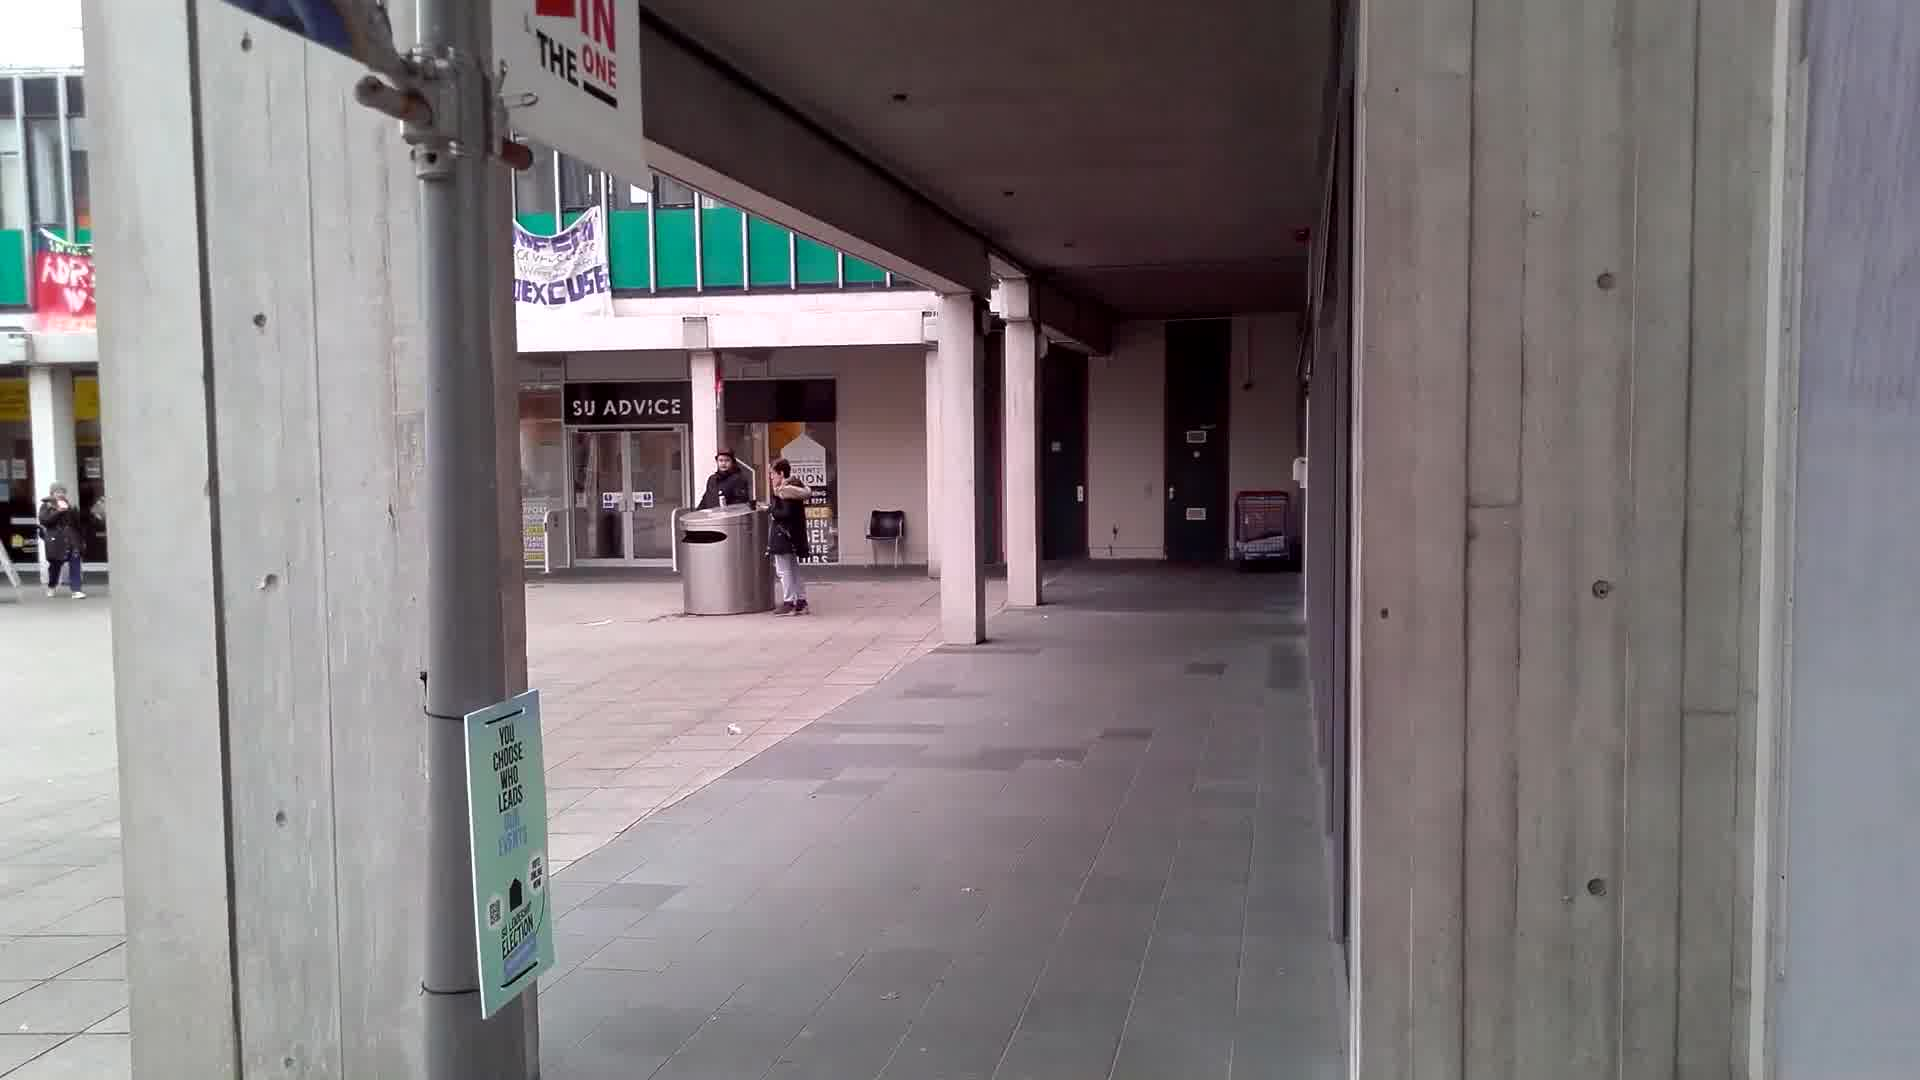Bin: (678, 497, 770, 617)
Person: (758, 455, 824, 619), (704, 445, 753, 506)
